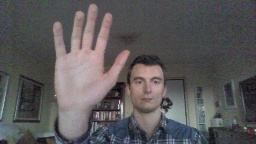Mano_aperta: (49, 2, 132, 112)
